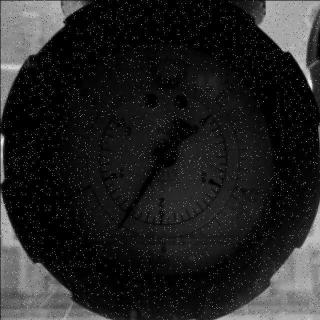gauge: (0, 0, 320, 320), (192, 100, 219, 130), (151, 142, 180, 169), (103, 104, 129, 128), (109, 221, 125, 235)
